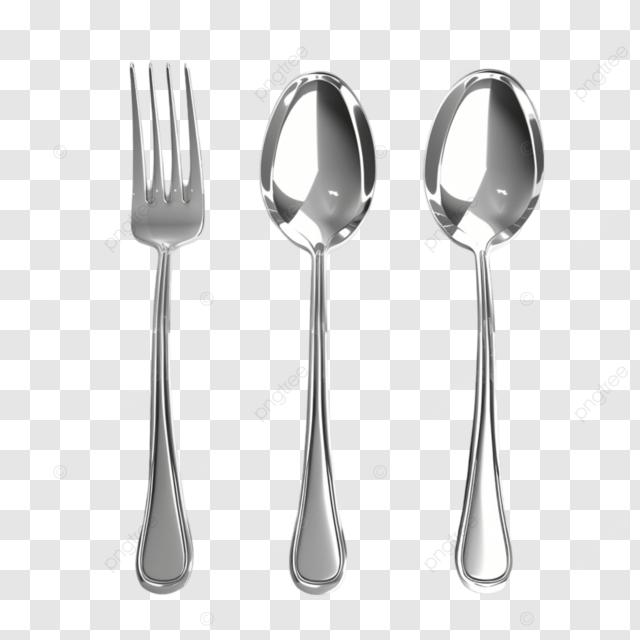Garpu: (93, 58, 245, 605)
Sendok: (414, 67, 578, 600), (250, 66, 390, 602)
